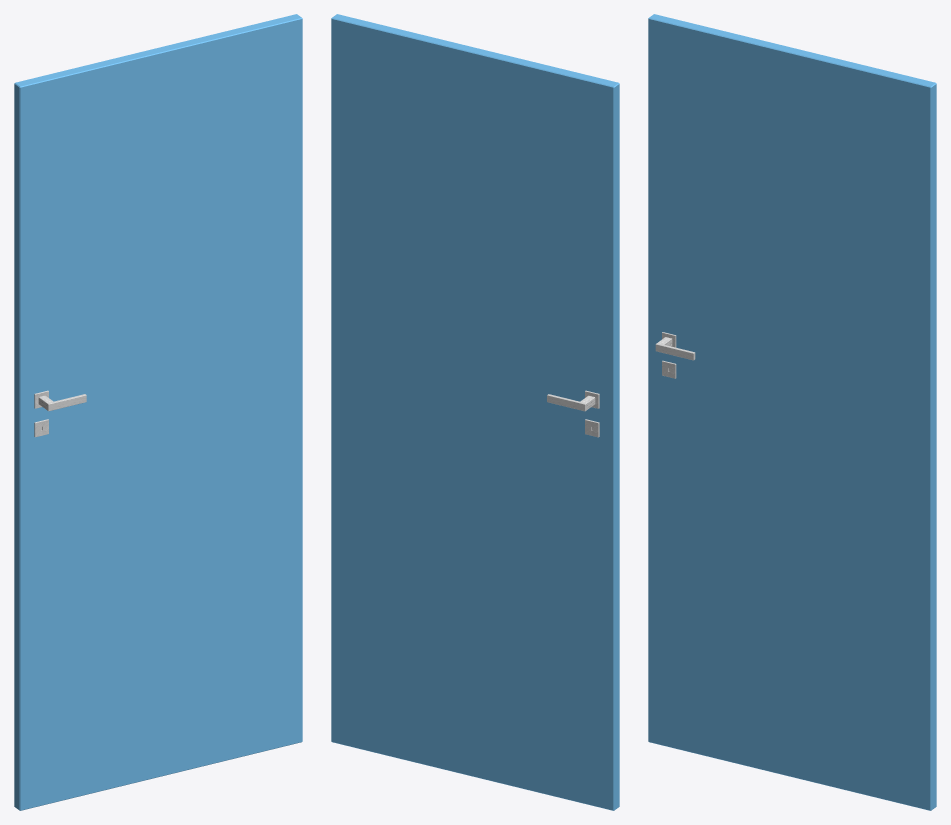
The model's file is door.obj.
3 renders of one model, left to right at view 1: azimuth 30°, elevation 25°; view 2: azimuth 150°, elevation 25°; view 3: azimuth 330°, elevation 25°, orthographic.
Visible parts, largest first — view 1: Cube.013, Cube; view 2: Cube.013, Cube; view 3: Cube.013, Cube.
Part boxes in pixels (box(x1,y1,x2,y2)): Cube.013: box(14, 14, 302, 810); Cube: box(34, 390, 86, 437); Cube.013: box(331, 14, 619, 810); Cube: box(547, 390, 599, 437); Cube.013: box(648, 14, 936, 810); Cube: box(655, 332, 695, 378).
Size of the model in its own units: 0.8124 by 1.98 by 0.135.
Materials: 2 (2 with a texture image).
